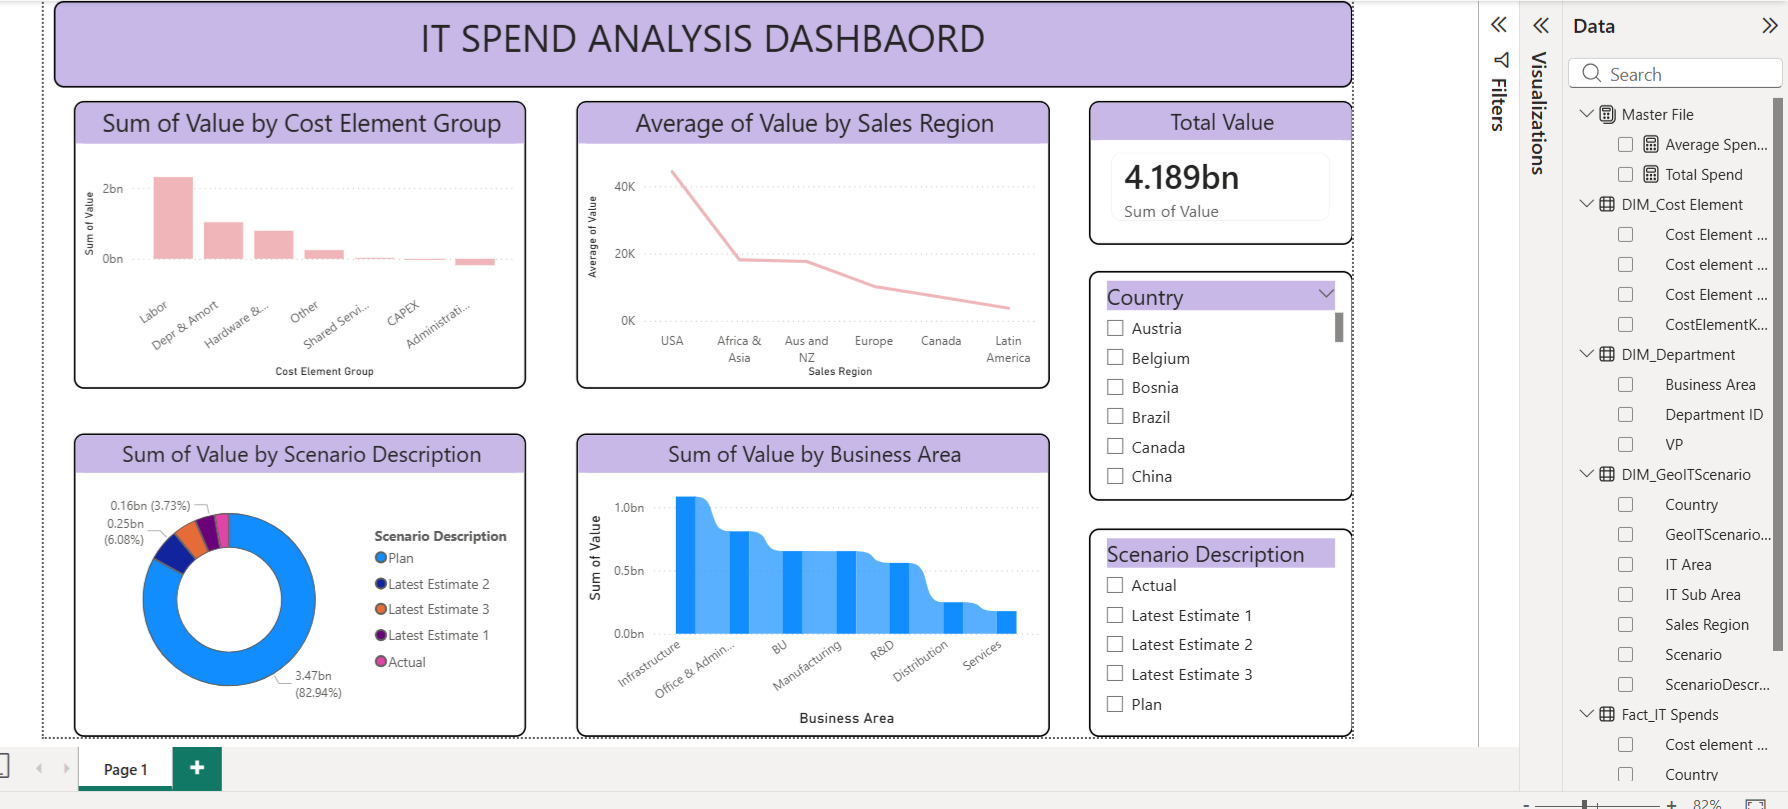

What the dashboard file says about the page in this screenshot:
{"tool":"powerbi","page":{"name":"Page 1","canvas":[1280,720],"ordinal":0},"visuals":[{"type":"textbox","box":[9.8,0,1270.5,85],"z":0},{"type":"cardVisual","title":"Total Value","fields":{"Data":["Sum(Fact_IT Spends.Value)"]},"box":[1022.3,97.8,258,140.6],"z":1},{"type":"slicer","fields":{"Values":["DIM_GeoITScenario.ScenarioDescription"]},"box":[1022.3,516,258,204.2],"z":2},{"type":"slicer","fields":{"Values":["DIM_GeoITScenario.Country"]},"box":[1022.3,264.1,258,225],"z":3},{"type":"columnChart","fields":{"Y":["Sum(Fact_IT Spends.Value)"],"Category":["DIM_Cost Element.Cost Element Group"]},"box":[29.3,97.8,442.7,281.3],"z":4},{"type":"lineChart","fields":{"Y":["Avg(Fact_IT Spends.Value)"],"Category":["DIM_GeoITScenario.Sales Region"]},"box":[520.9,97.8,463.5,281.3],"z":5},{"type":"donutChart","title":"Sum of Value by Scenario Description","fields":{"Y":["Sum(Fact_IT Spends.Value)"],"Category":["DIM_GeoITScenario.ScenarioDescription"]},"box":[29.3,423.1,442.7,297.1],"z":6},{"type":"ribbonChart","fields":{"Y":["Sum(Fact_IT Spends.Value)"],"Category":["DIM_Department.Business Area"]},"box":[520.9,423.1,463.5,297.1],"z":7}]}

Visuals, with their boxes on the page's 1280x720 design canvas (x1, y1, x2, y2). These are canvas units, not pixel positions in the 1788x809 screenshot, which may show the page scaled, cropped or inside an application window:
textbox: 10,0,1280,85
"Total Value" cardVisual: 1022,98,1280,238
slicer - DIM_GeoITScenario.ScenarioDescription: 1022,516,1280,720
slicer - DIM_GeoITScenario.Country: 1022,264,1280,489
columnChart - Sum(Fact_IT Spends.Value) x DIM_Cost Element.Cost Element Group: 29,98,472,379
lineChart - Avg(Fact_IT Spends.Value) x DIM_GeoITScenario.Sales Region: 521,98,984,379
"Sum of Value by Scenario Description" donutChart: 29,423,472,720
ribbonChart - Sum(Fact_IT Spends.Value) x DIM_Department.Business Area: 521,423,984,720
